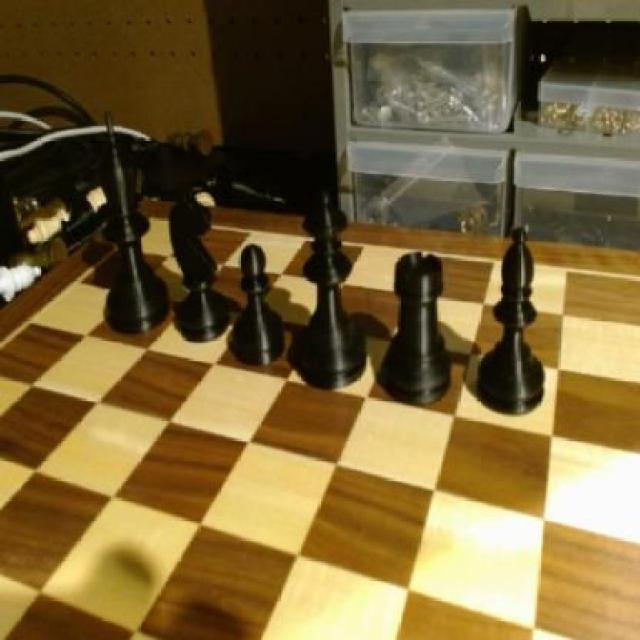bishop: (466, 225, 552, 420)
black-bishop: (96, 114, 166, 342)
black-king: (166, 182, 232, 346)
black-knight: (231, 237, 287, 360)
black-pawn: (291, 188, 368, 389)
black-queen: (380, 249, 455, 406)
